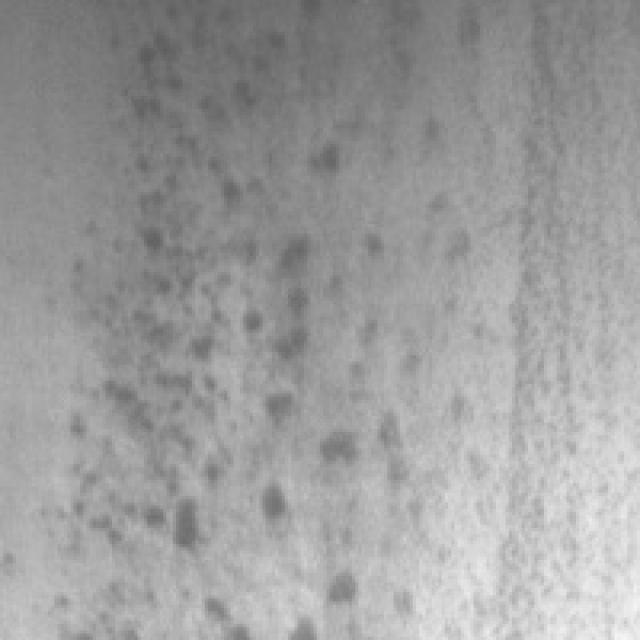pitted_surface: (77, 3, 454, 634), (483, 0, 621, 634)
